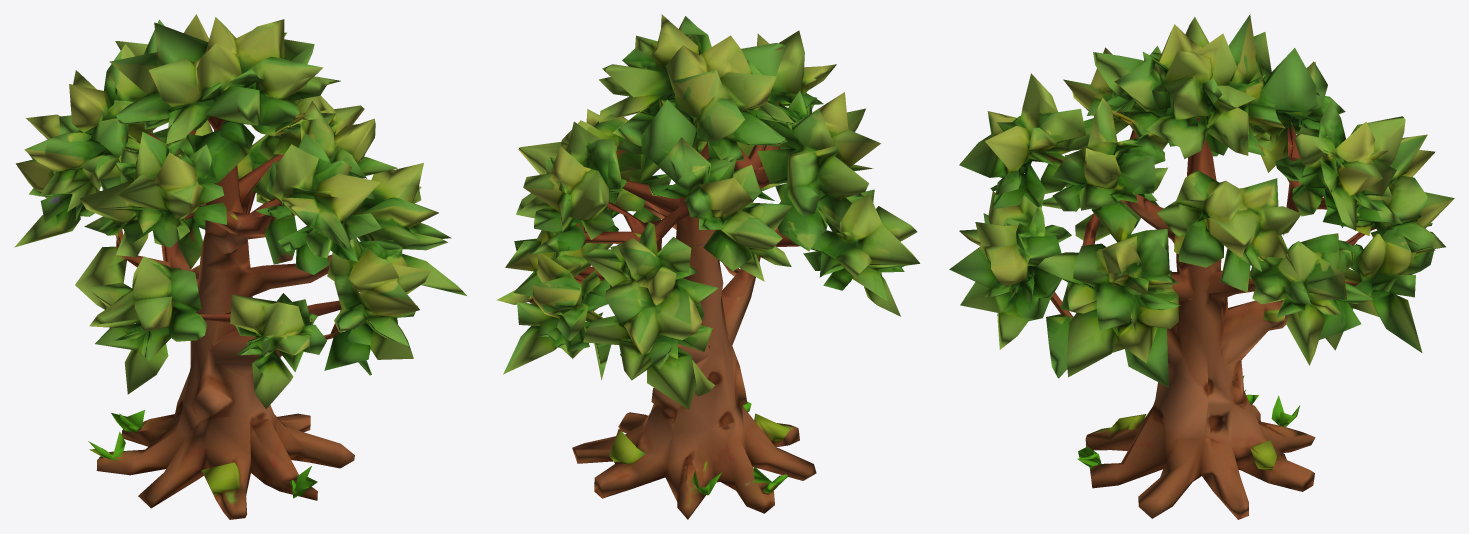
Rendered from tree.glb.
3 renders of one model, left to right at view 1: azimuth 30°, elevation 25°; view 2: azimuth 150°, elevation 25°; view 3: azimuth 270°, elevation 25°, orthographic. The views are drawn at different scales.
Visible parts, largest first — view 1: tripo_node_291be6da-34bc-449d-a97c-b7fd0a03972c; view 2: tripo_node_291be6da-34bc-449d-a97c-b7fd0a03972c; view 3: tripo_node_291be6da-34bc-449d-a97c-b7fd0a03972c.
Part boxes in pixels (box(x1,y1,x2,y2)): tripo_node_291be6da-34bc-449d-a97c-b7fd0a03972c: box(14, 14, 466, 519); tripo_node_291be6da-34bc-449d-a97c-b7fd0a03972c: box(497, 14, 919, 519); tripo_node_291be6da-34bc-449d-a97c-b7fd0a03972c: box(949, 14, 1454, 519).
Size of the model in its own units: 0.782 by 0.9335 by 0.969.
Materials: 1 (1 with a texture image).
